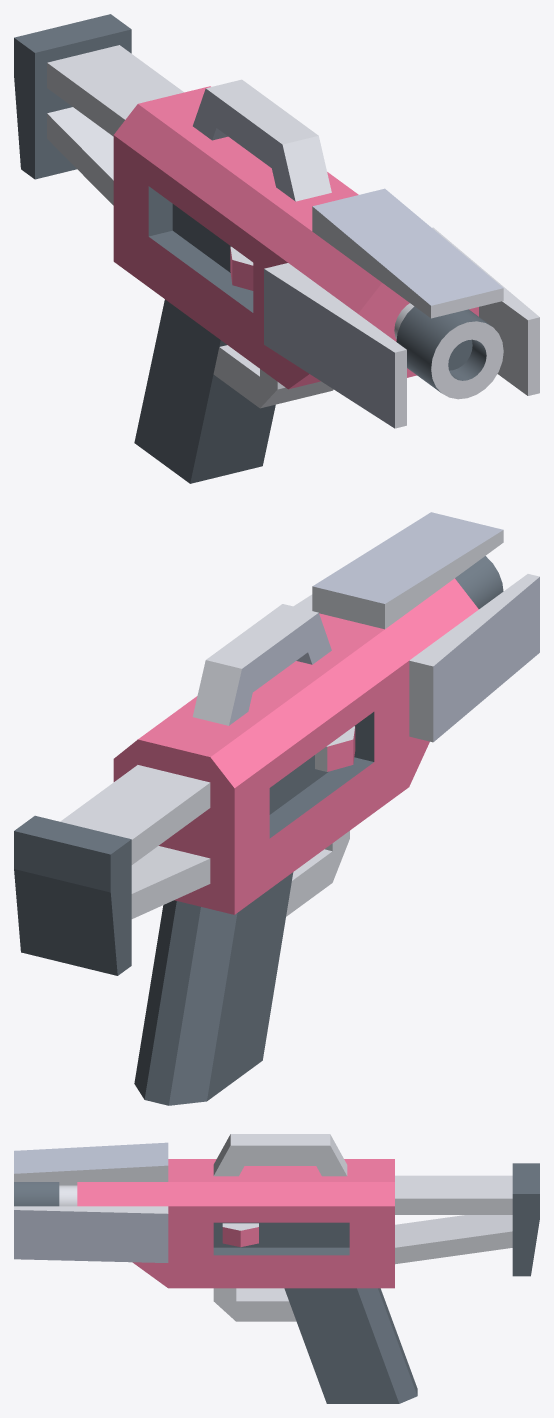
File: blasterN.glb
3 renders of one model, top to bottom at view 1: azimuth 30°, elevation 25°; view 2: azimuth 150°, elevation 25°; view 3: azimuth 270°, elevation 25°, orthographic. The views are drawn at different scales.
Parts seen in each view (by area): view 1: blasterN; view 2: blasterN; view 3: blasterN.
Boxes of the visible parts, x1,y1,x2,y2 form: blasterN: (14, 14, 539, 483); blasterN: (14, 512, 539, 1105); blasterN: (14, 1134, 539, 1403).
Size of the model in its own units: 0.14 by 0.3075 by 0.58.
